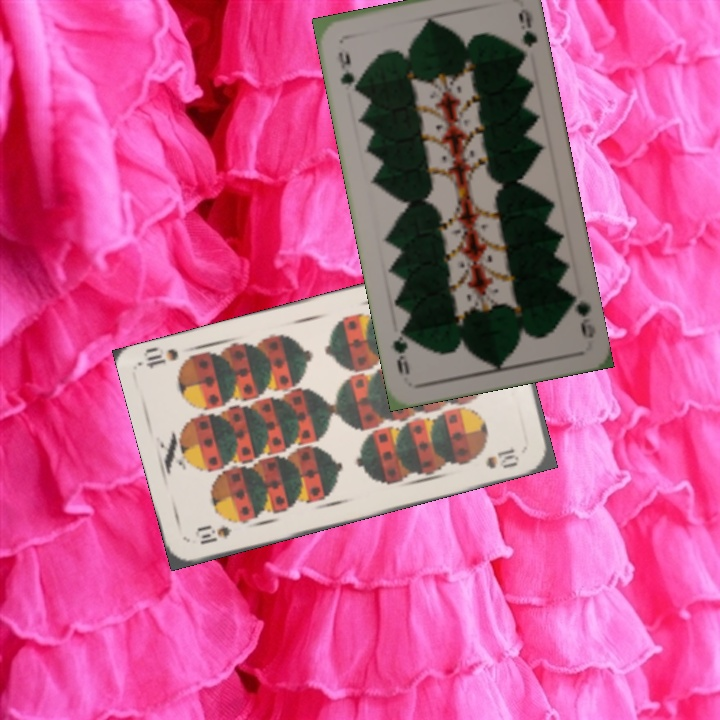G9: (564, 288, 599, 341), (334, 46, 361, 95)
S10: (193, 521, 235, 547)
